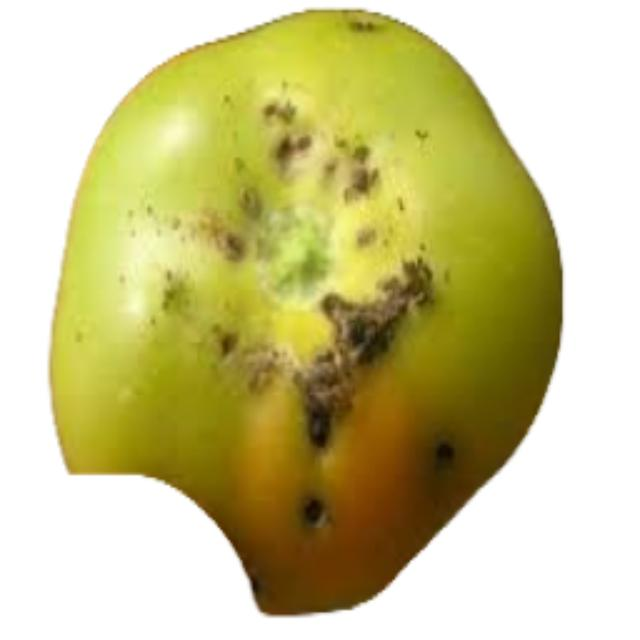defect: (36, 2, 568, 618)
